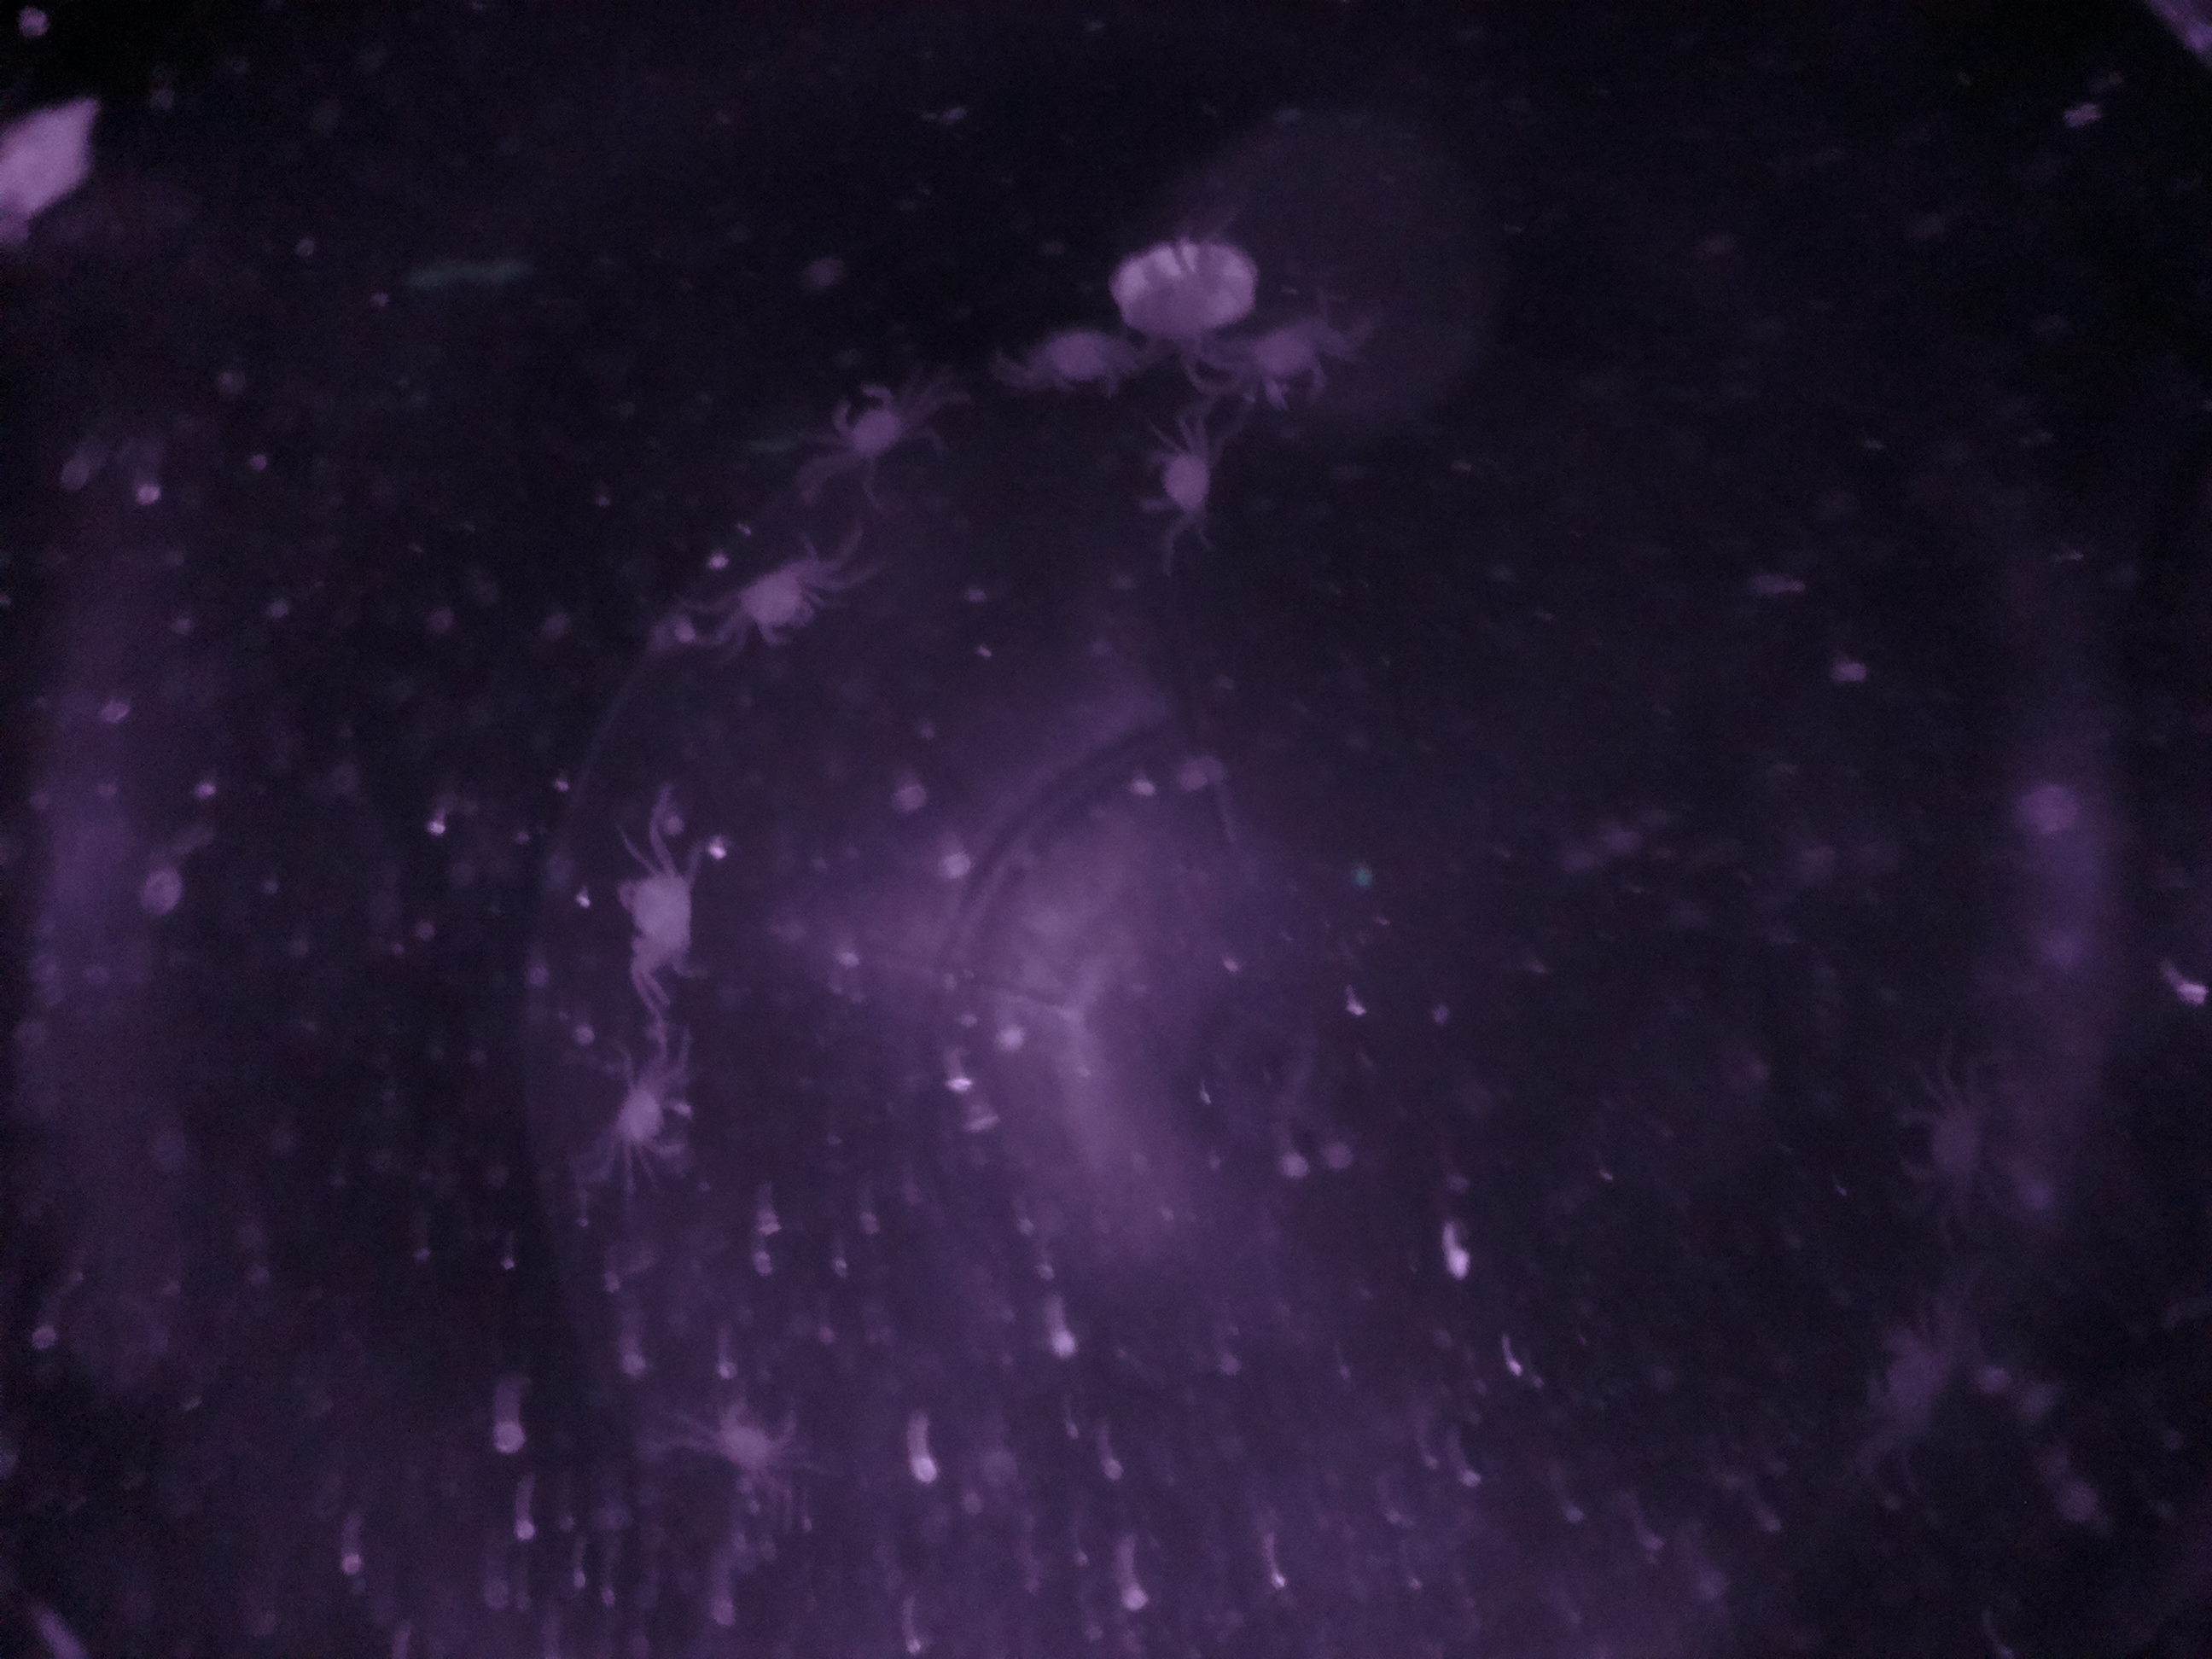Crab: (603, 843, 747, 985), (594, 1061, 714, 1185), (1125, 415, 1242, 533), (716, 556, 841, 660), (815, 371, 923, 474)
